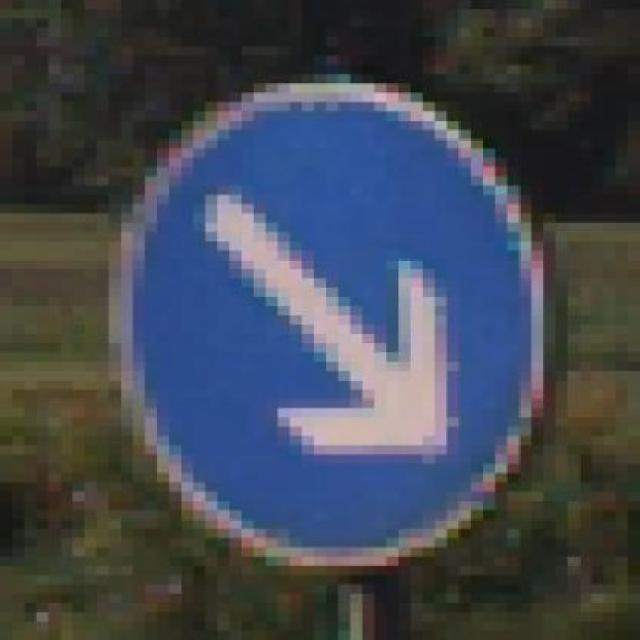Keep-Right: (84, 74, 556, 603)
